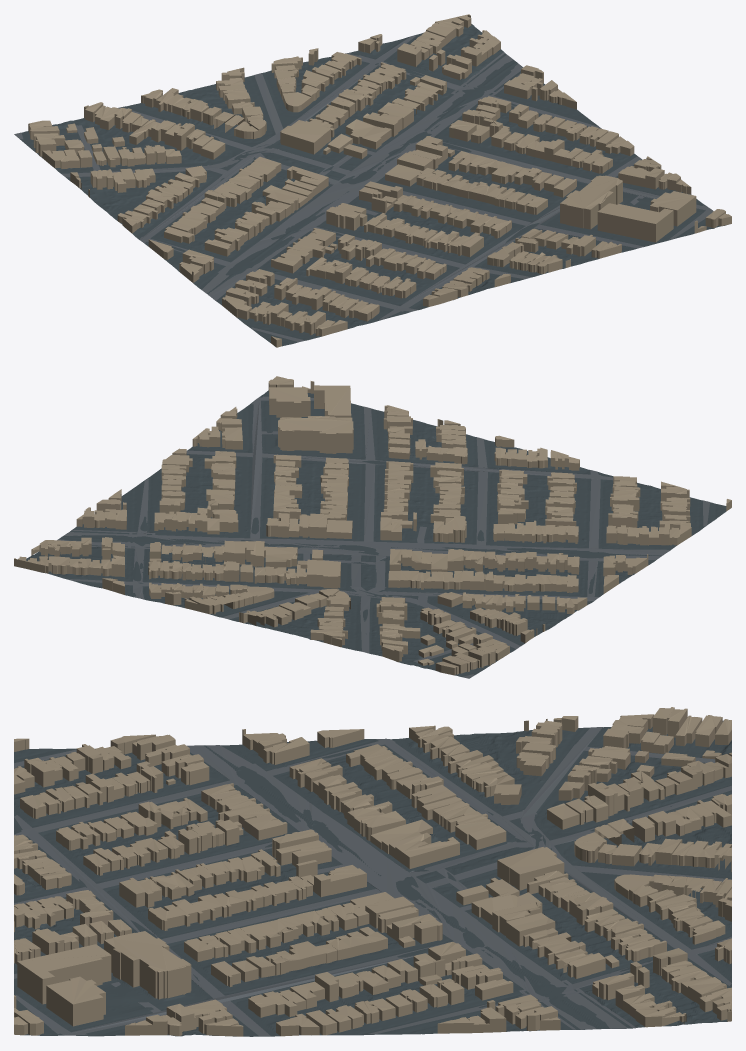
Rendered from epsg26910-1431-10870.lod0.glb.
3 renders of one model, top to bottom at view 1: azimuth 30°, elevation 25°; view 2: azimuth 150°, elevation 25°; view 3: azimuth 270°, elevation 25°, orthographic. The views are drawn at different scales.
Parts seen in each view (by area): view 1: epsg26910-1431-10870-lod0; view 2: epsg26910-1431-10870-lod0; view 3: epsg26910-1431-10870-lod0.
Part boxes in pixels (box(x1,y1,x2,y2)): epsg26910-1431-10870-lod0: box(14, 14, 731, 347); epsg26910-1431-10870-lod0: box(14, 376, 731, 678); epsg26910-1431-10870-lod0: box(14, 707, 731, 1036).
Bounding box in the file's own units: 384 × 27.1 × 384.
